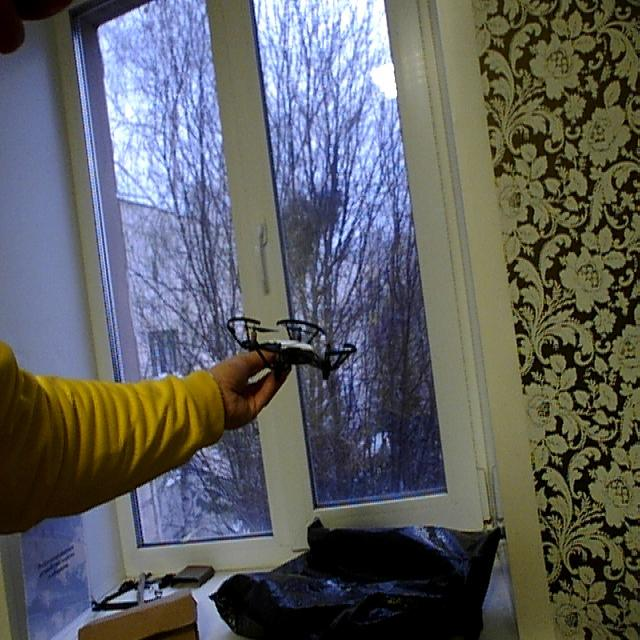drone: (214, 300, 362, 394)
